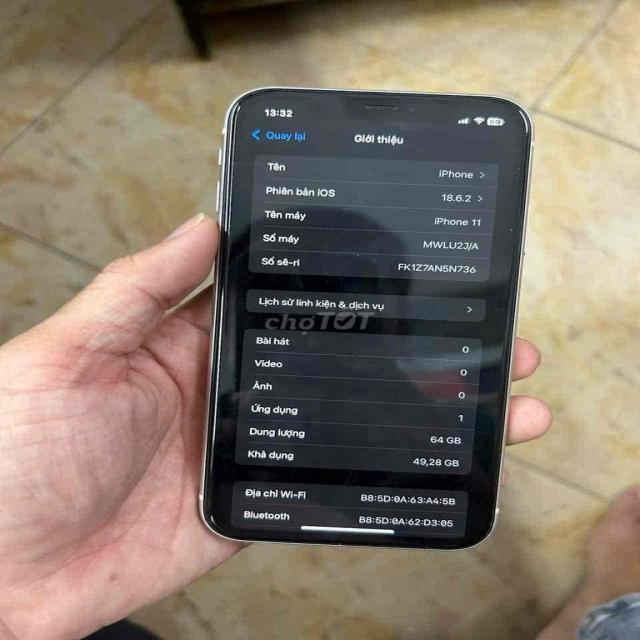gen_11: (197, 66, 564, 560)
